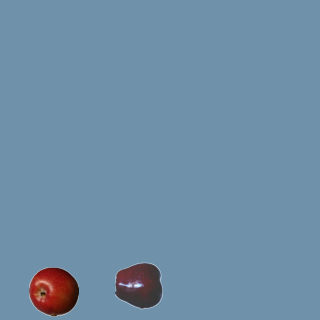Apple Braeburn: (28, 266, 78, 316)
Apple Red Delicious: (114, 260, 164, 310)
